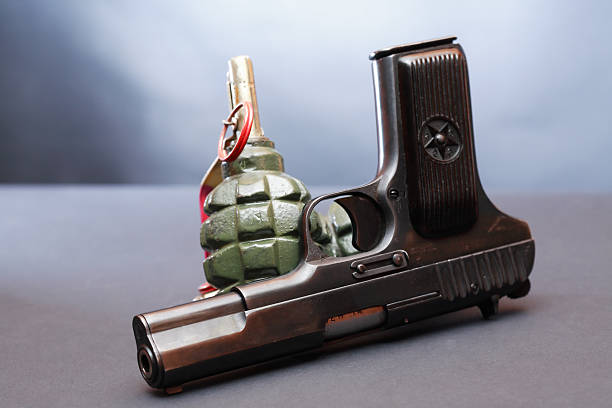e1: (198, 56, 320, 303)
